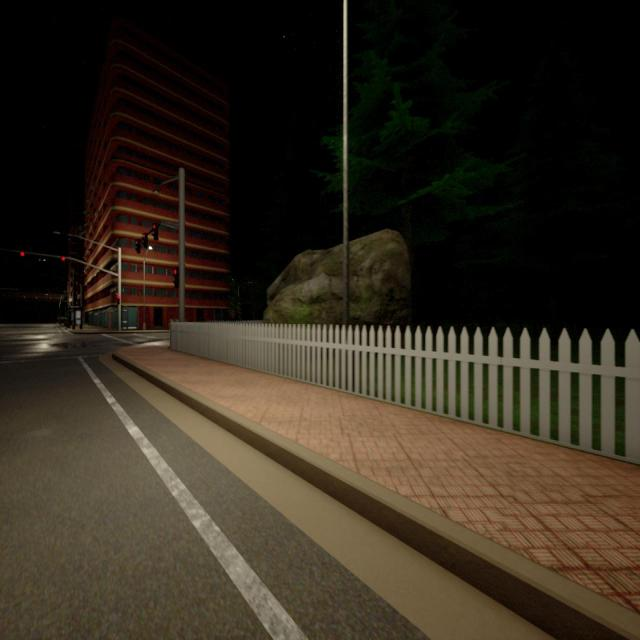traffic_light: (172, 266, 179, 289), (152, 223, 158, 241), (142, 232, 148, 248), (134, 239, 140, 253), (117, 295, 120, 305), (61, 256, 65, 262), (20, 252, 25, 256), (36, 296, 38, 299), (24, 296, 26, 298), (50, 297, 51, 299)
